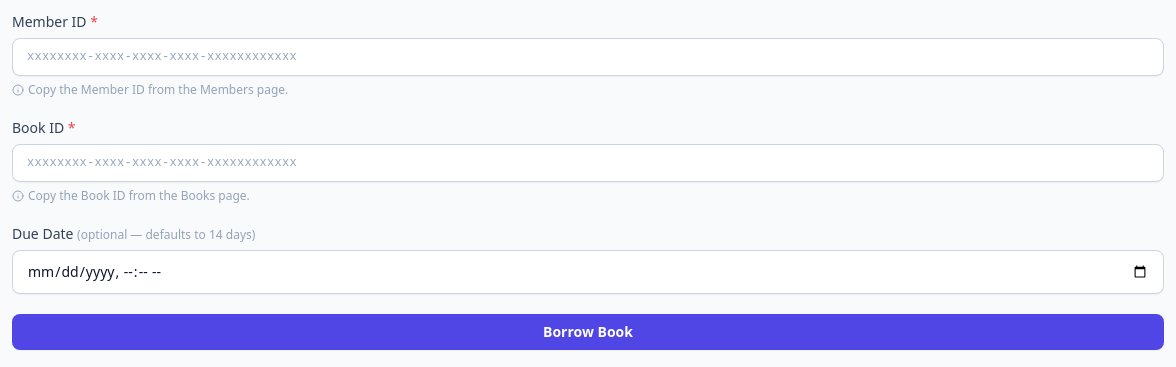
BorrowForm › shows validation error when book_id is empty
Step 1. Type "some-uuid" into the field labelled "Member ID *" → [588, 57], box left=12, top=38, right=1164, bottom=76
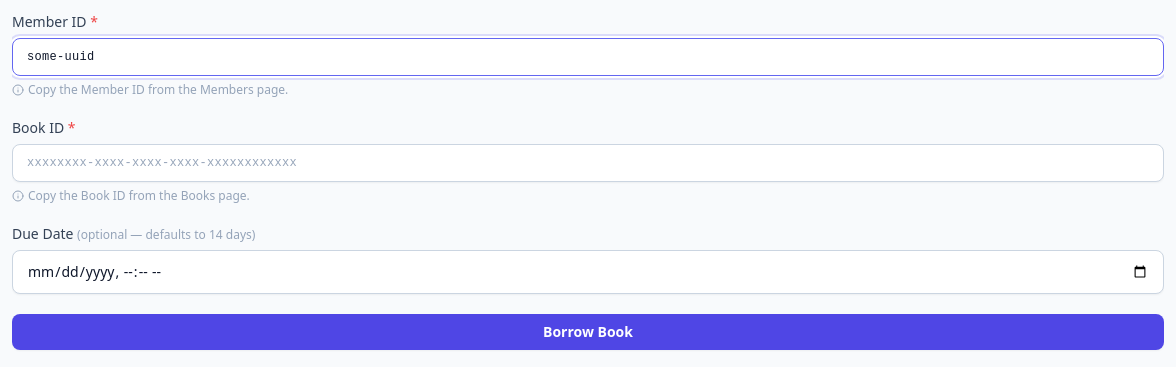
Step 2. Click the button "Borrow Book" → [588, 332], box left=12, top=314, right=1164, bottom=350
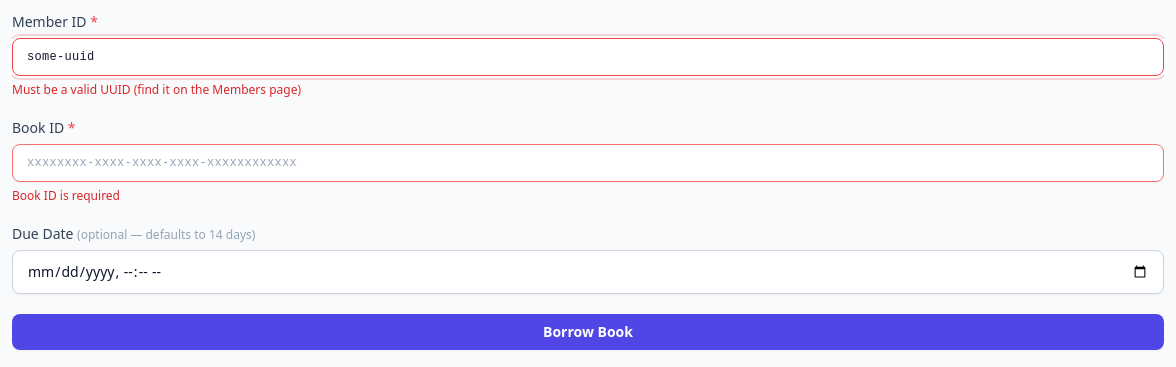
Check: the text "Book ID is required" is shown, box left=12, top=187, right=120, bottom=204
